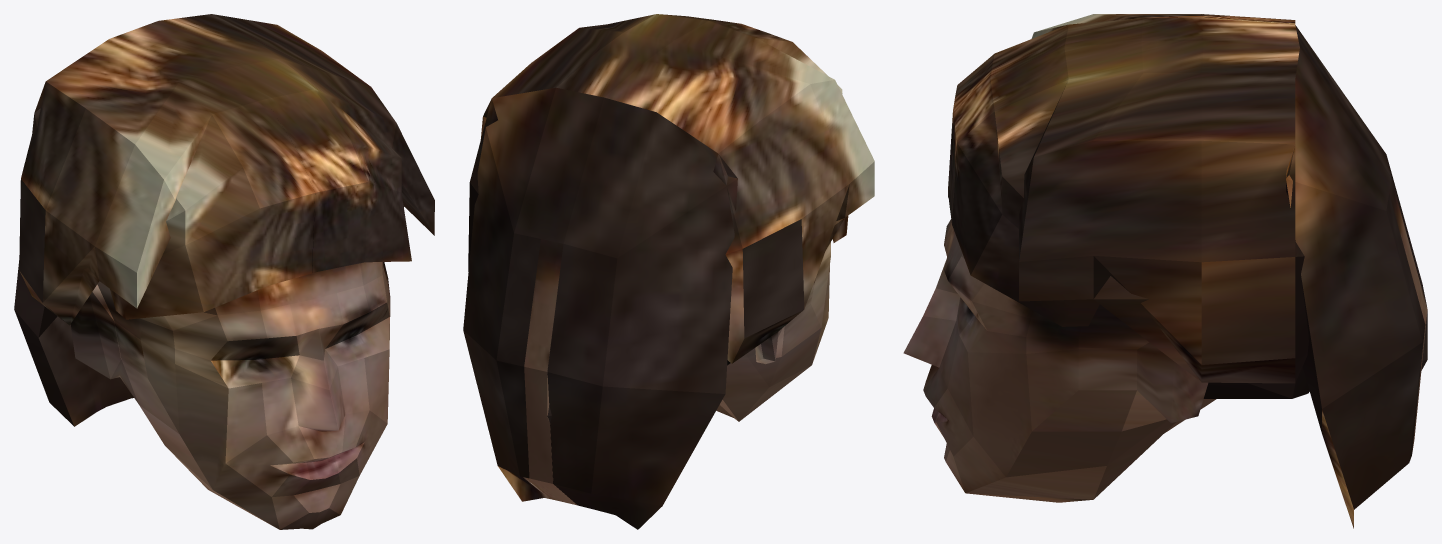
The model's file is jana.glb.
3 views of the same model, side by side, from view 1: azimuth 30°, elevation 25°; view 2: azimuth 150°, elevation 25°; view 3: azimuth 270°, elevation 25° (orthographic). The views are drawn at different scales.
Visible parts, largest first — view 1: Jana; view 2: Jana; view 3: Jana.
Boxes of the visible parts, <box> form: Jana: <box>14,14,434,529</box>; Jana: <box>463,14,874,529</box>; Jana: <box>903,14,1427,528</box>.
Size of the model in its own units: 1.8 by 2.24 by 2.32.
Materials: 1 (1 with a texture image).
